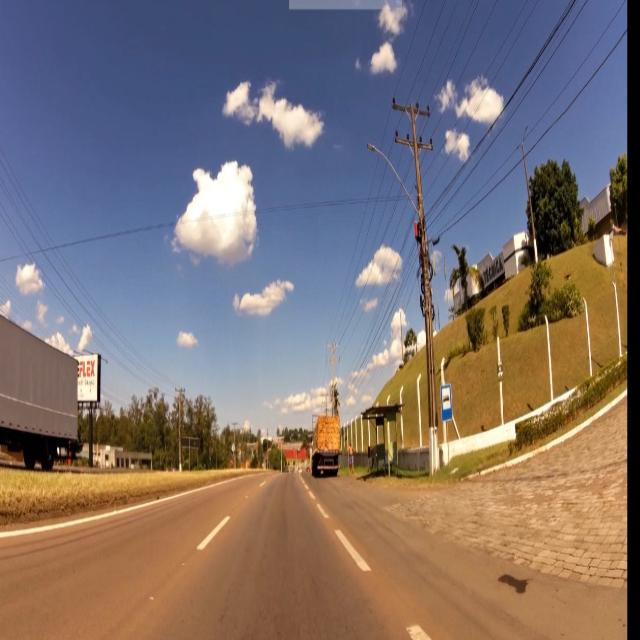S-14: (441, 383, 454, 422)
